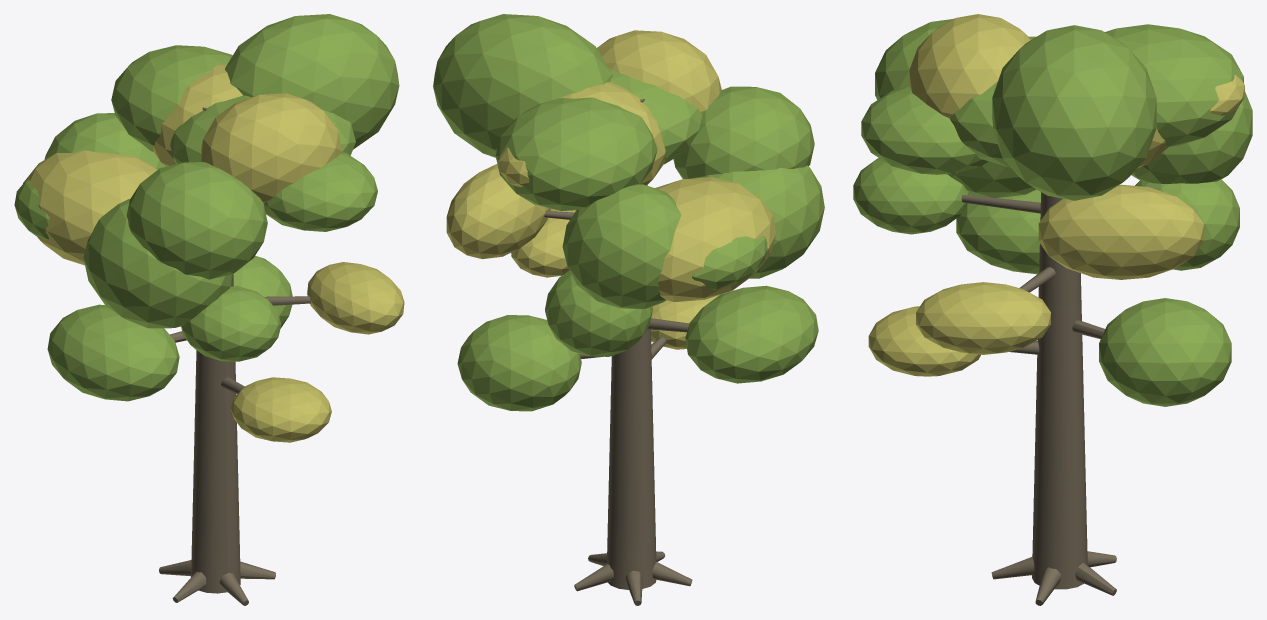
File: ginkgo-crown-tree.glb
The picture shows the model from 3 angles, left to right: view 1: azimuth 30°, elevation 25°; view 2: azimuth 150°, elevation 25°; view 3: azimuth 270°, elevation 25°; orthographic projection. The views are drawn at different scales.
Parts seen in each view (by area): view 1: crown-2, crown-8, crown-0, trunk, foliage-2, crown-7, crown-6, crown-4, foliage-8, foliage-3, foliage-5, foliage-0 (+5 smaller); view 2: crown-2, crown-4, crown-5, trunk, foliage-2, crown-8, foliage-1, crown-6, foliage-6, crown-0, crown-7, foliage-4 (+8 smaller); view 3: crown-2, trunk, foliage-6, foliage-1, crown-4, crown-0, foliage-3, foliage-8, foliage-5, foliage-2, crown-5, foliage-0 (+9 smaller).
Part boxes in pixels (box(x1,y1,x2,y2)): crown-2: box(225, 14, 399, 149); crown-8: box(126, 162, 267, 279); crown-0: box(201, 93, 341, 203); trunk: box(191, 107, 240, 593); foliage-2: box(47, 304, 179, 401); crown-7: box(83, 199, 232, 328); crown-6: box(23, 150, 157, 265); crown-4: box(111, 45, 232, 151); foliage-8: box(264, 152, 377, 231); foliage-3: box(307, 262, 404, 334); foliage-5: box(181, 286, 281, 361); foliage-0: box(231, 377, 331, 442); crown-2: box(433, 14, 612, 157); crown-4: box(495, 97, 657, 210); crown-5: box(562, 184, 681, 308); trunk: box(607, 99, 656, 589); foliage-2: box(685, 285, 818, 383); crown-8: box(673, 86, 814, 179); foliage-1: box(457, 315, 581, 411); crown-6: box(655, 177, 775, 302); foliage-6: box(446, 164, 550, 259); crown-0: box(597, 30, 721, 113); crown-7: box(692, 165, 824, 278); foliage-4: box(545, 270, 652, 356); crown-2: box(992, 25, 1156, 200); trunk: box(1032, 192, 1087, 589); foliage-6: box(1038, 184, 1204, 279); foliage-1: box(1099, 298, 1231, 406); crown-4: box(1105, 24, 1243, 147); crown-0: box(909, 14, 1030, 118); foliage-3: box(916, 282, 1050, 354); foliage-8: box(861, 86, 988, 174); foliage-5: box(853, 158, 969, 234); foliage-2: box(956, 189, 1040, 274); crown-5: box(1131, 92, 1252, 183); foliage-0: box(868, 306, 980, 376).
Bounding box in the file's own units: 3.91 × 5.79 × 3.53.
